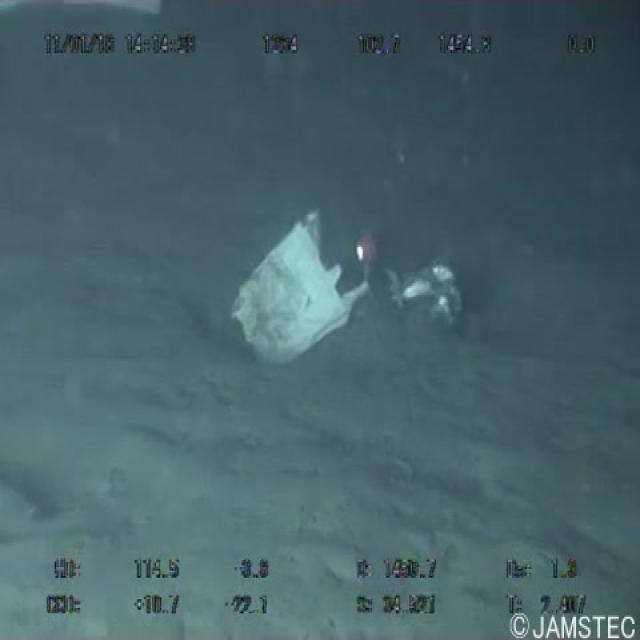plastic: (224, 206, 375, 368)
